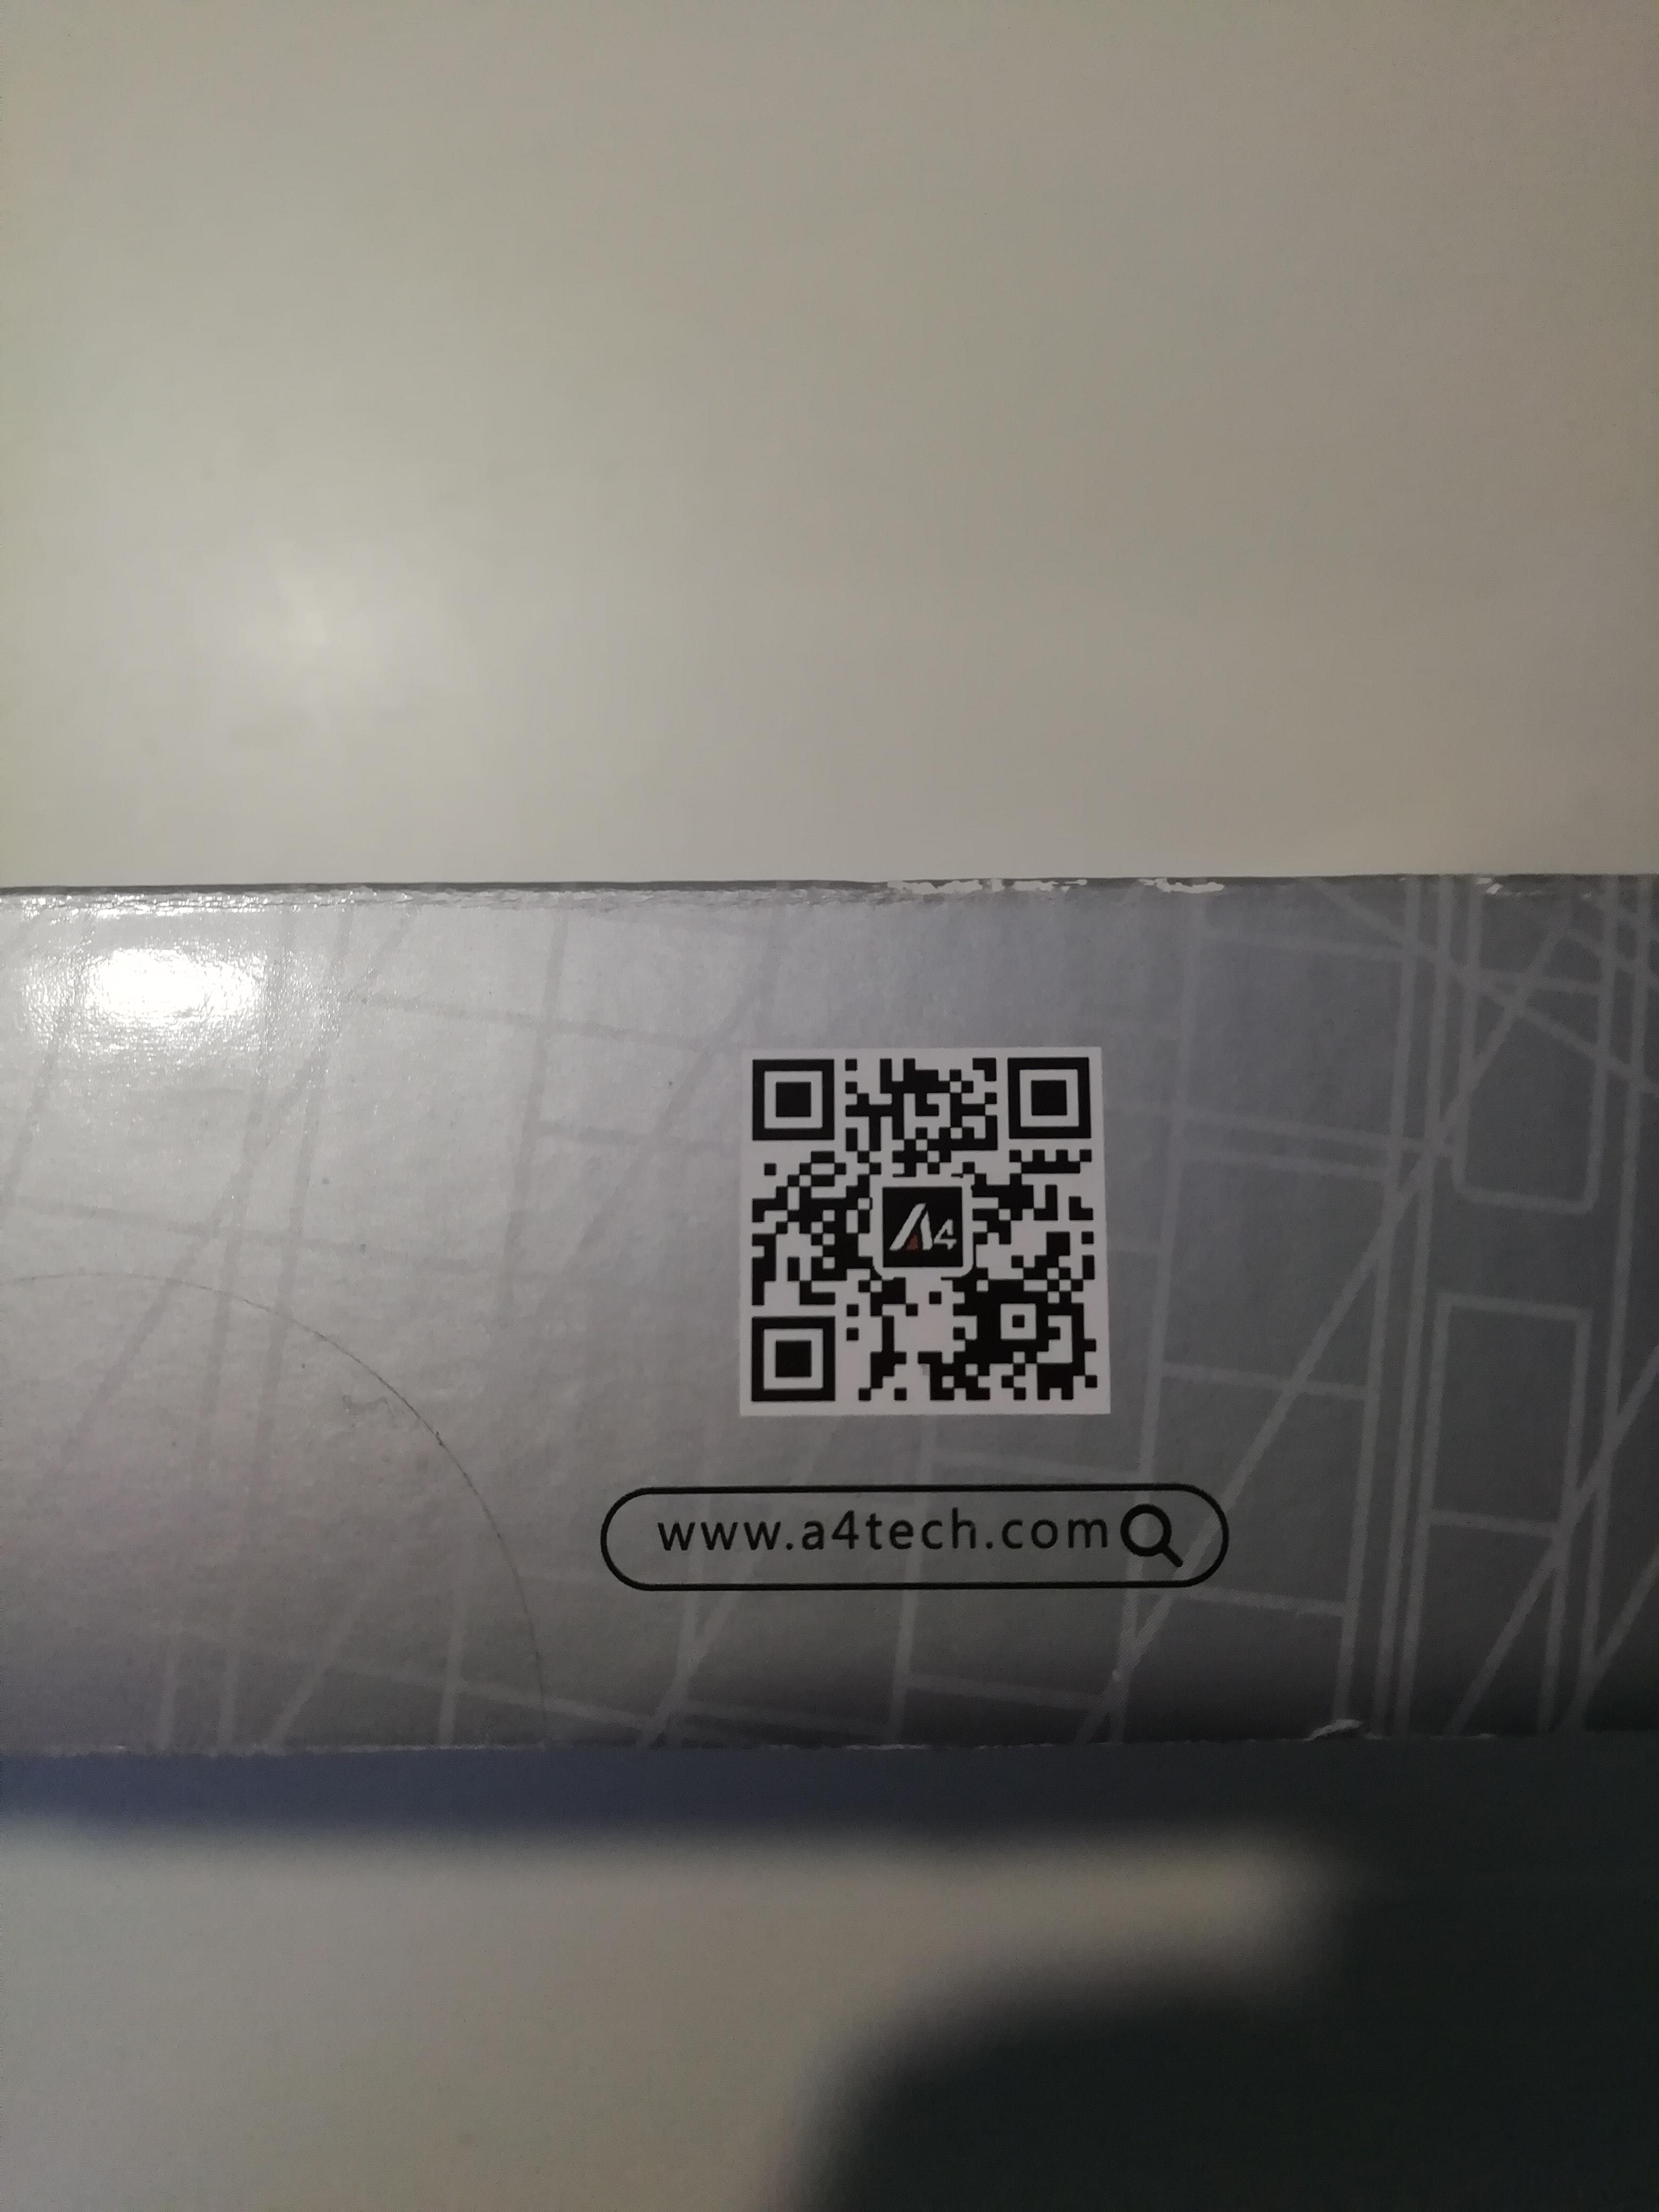qrcode: (753, 1054, 1103, 1409)
